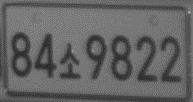2: (133, 35, 158, 82), (159, 35, 182, 83)
4: (33, 32, 58, 79)
8: (9, 30, 33, 78), (109, 34, 132, 80)
9: (84, 33, 107, 80)
소: (58, 42, 81, 80)
